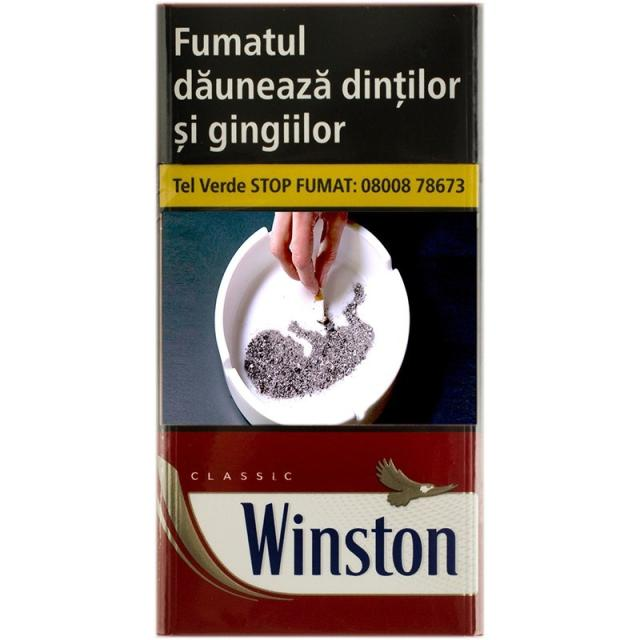winston: (152, 0, 489, 640)
